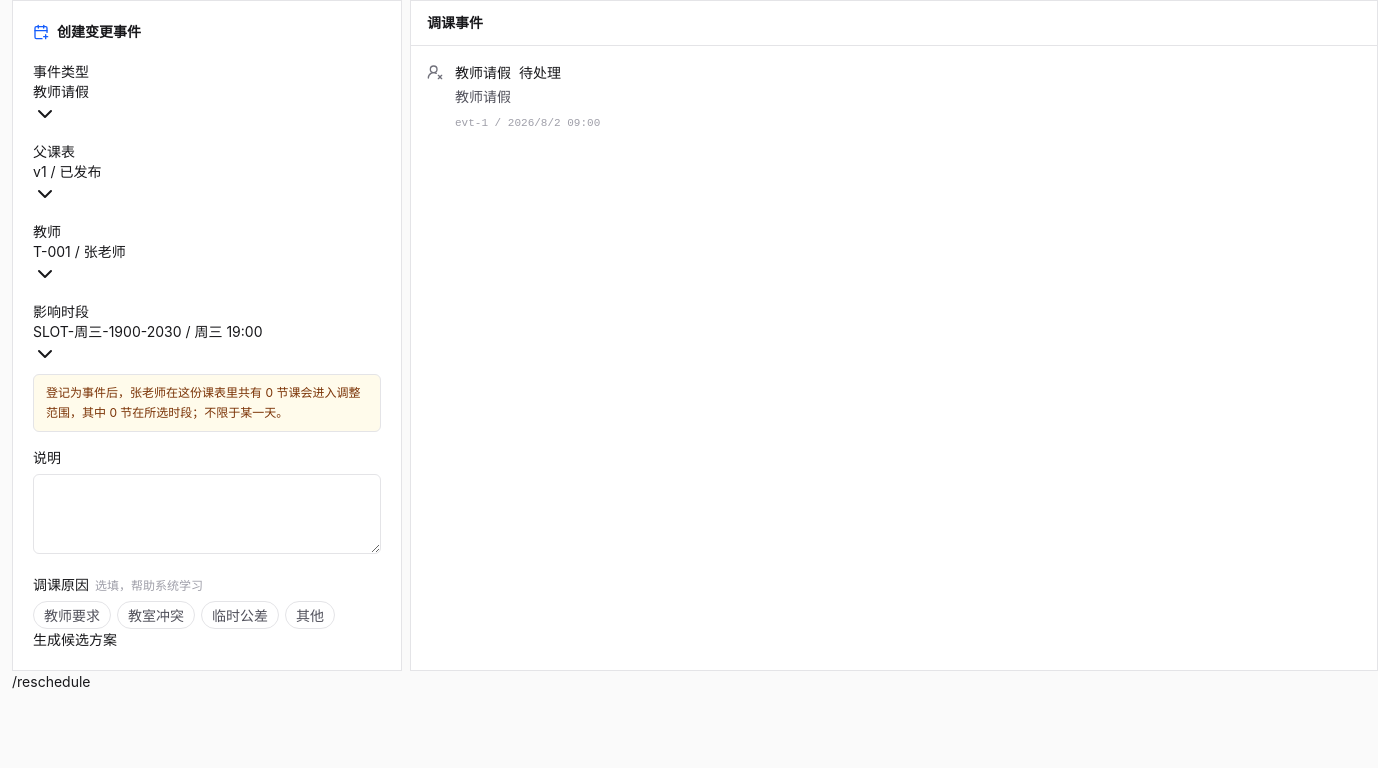
Test: ReschedulePage inside the schedule hub › says the candidate is still being generated while the solve runs, and offers no draft link yet
Click the button "生成候选方案" at (75, 640), box [33,629,117,650]
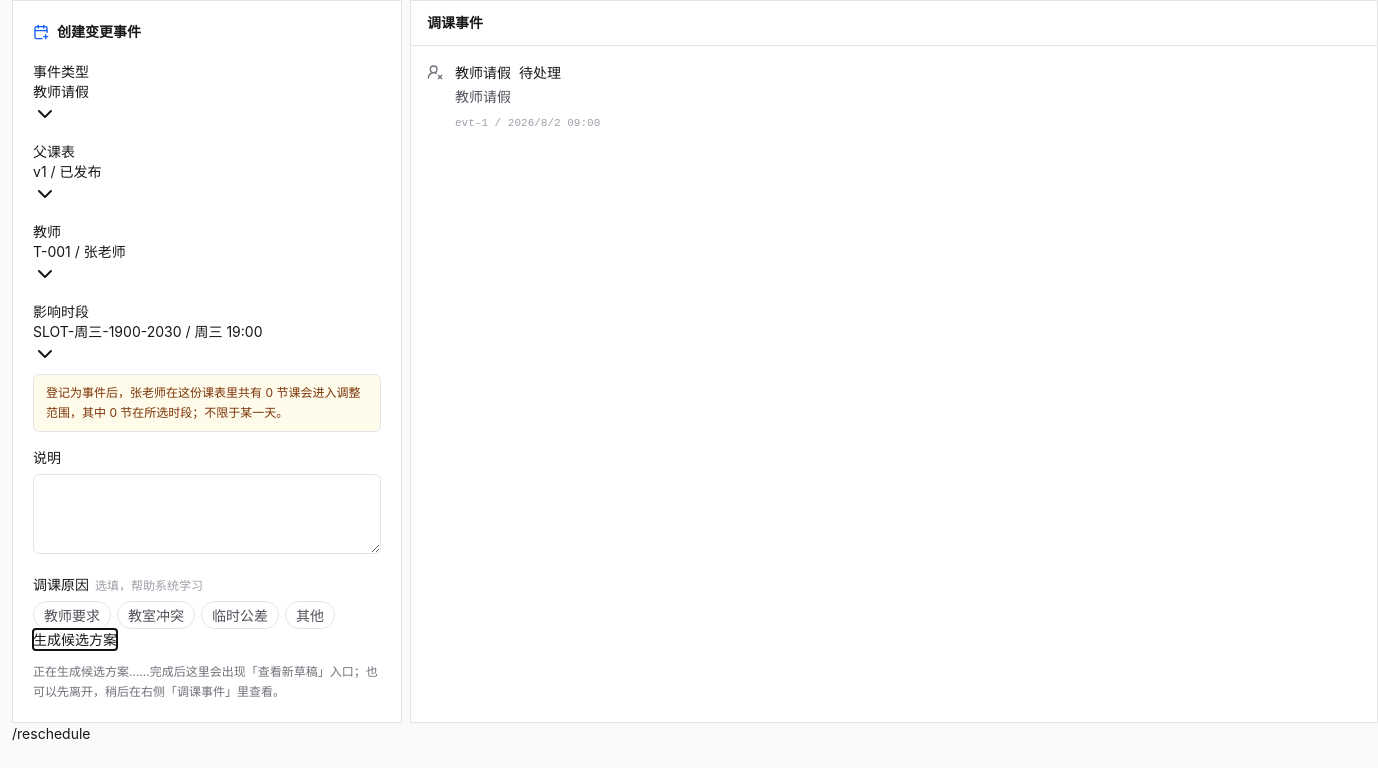
Expected: the text "正在生成候选方案……完成后这里会出现「查看新草稿」入口；也可以先离开，稍后在右侧「调课事件」里查看。" is shown, [33,662,381,702]
